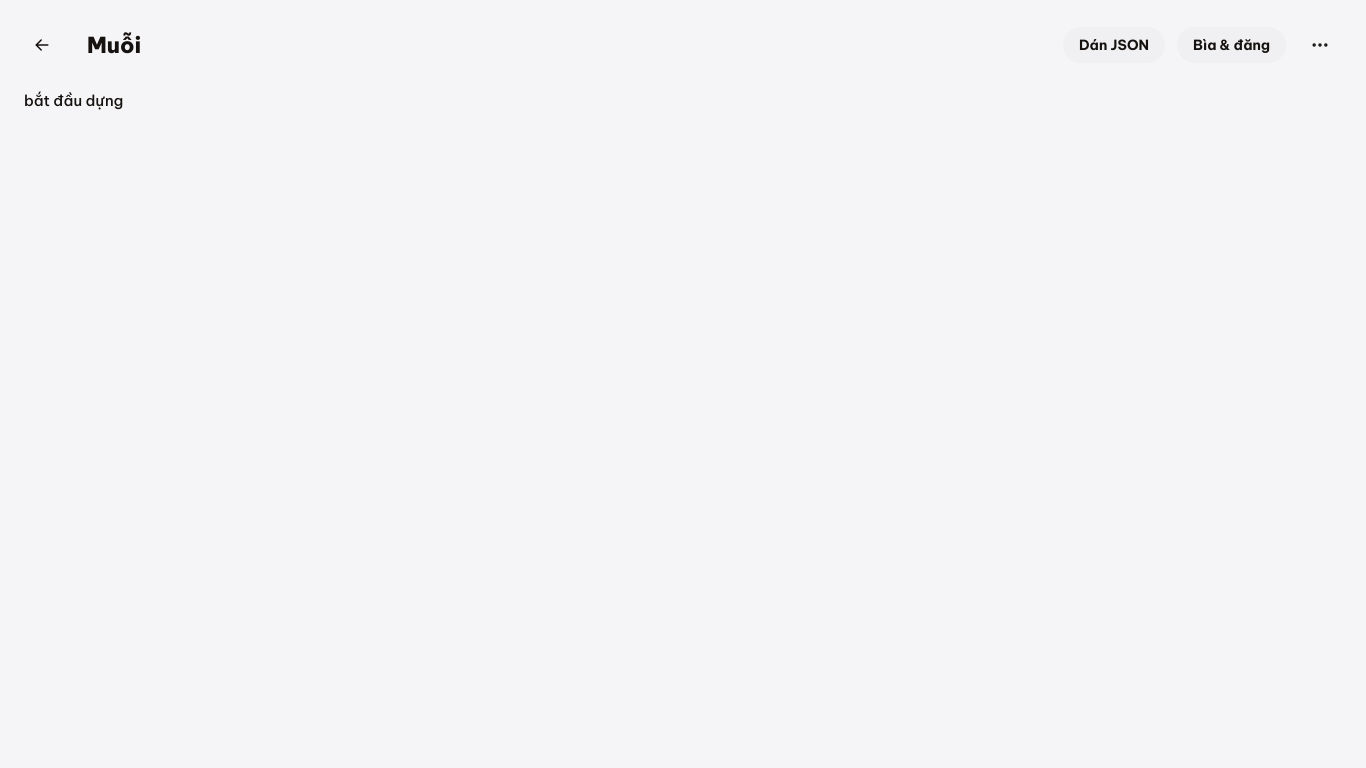
Test case: BackupsDialog (menu ⋯ → Bản sao lưu) › asks for confirmation, restores the chosen backup and swaps the project in
Click the button named "Thêm thao tác" at (1320, 45), box [1298,23,1342,67]
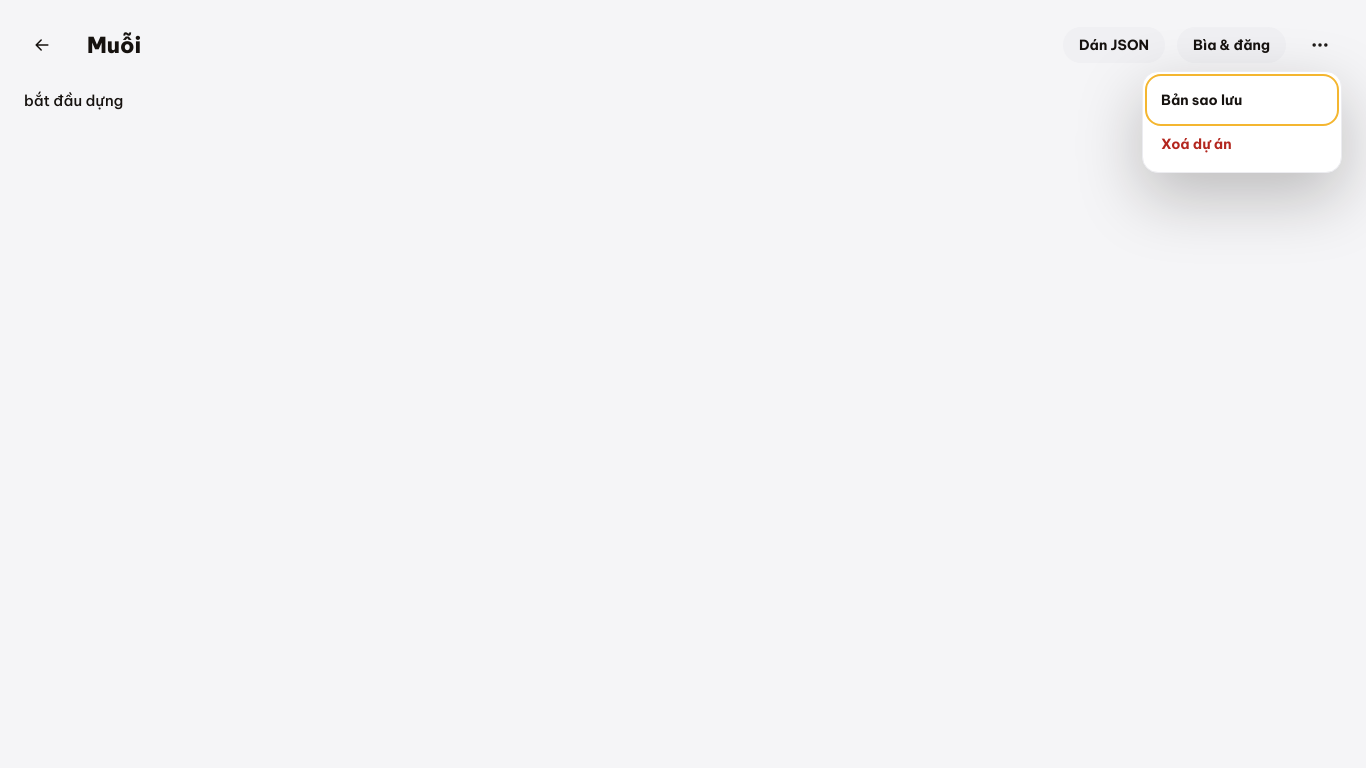
Click the menu item "Bản sao lưu" at (1242, 100), box [1149,78,1335,122]
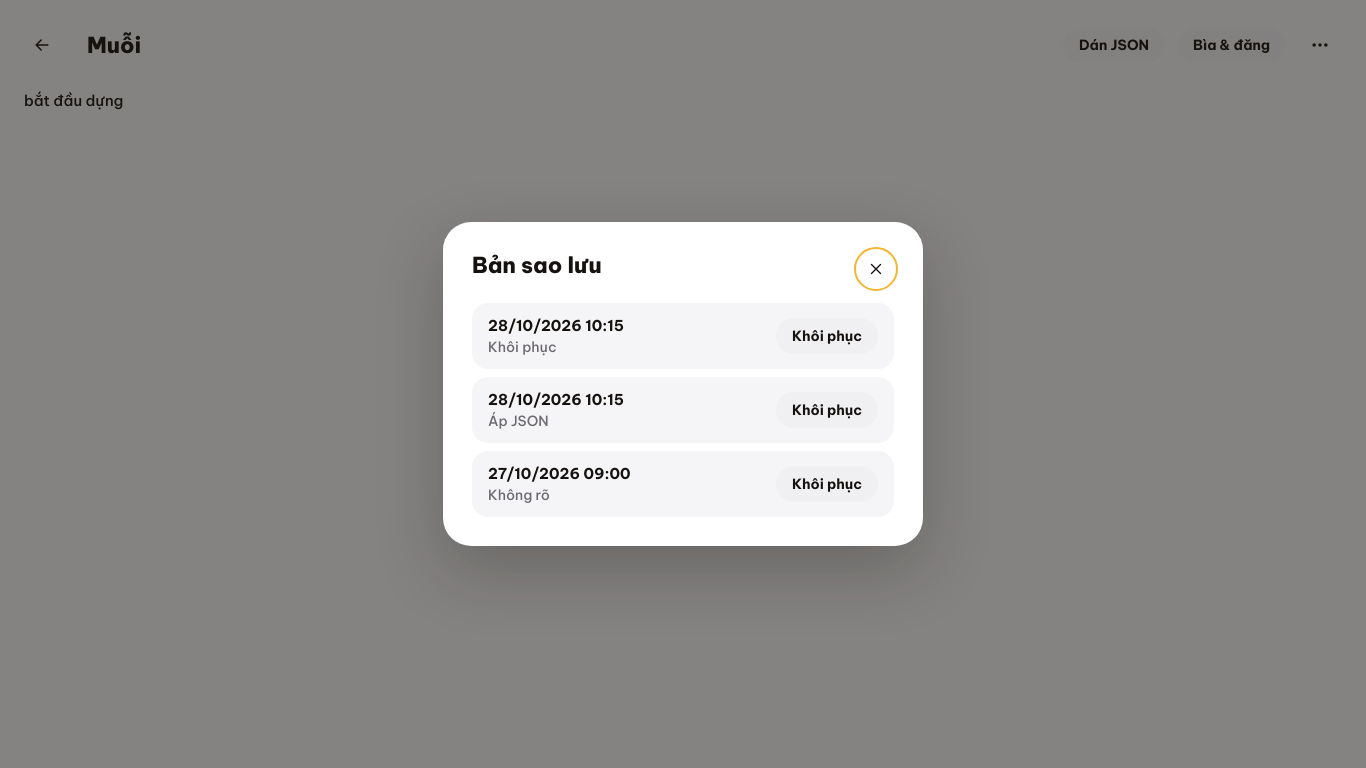
Click the button "Khôi phục" in the row of "Áp JSON" at (827, 410), box [776,392,878,428]
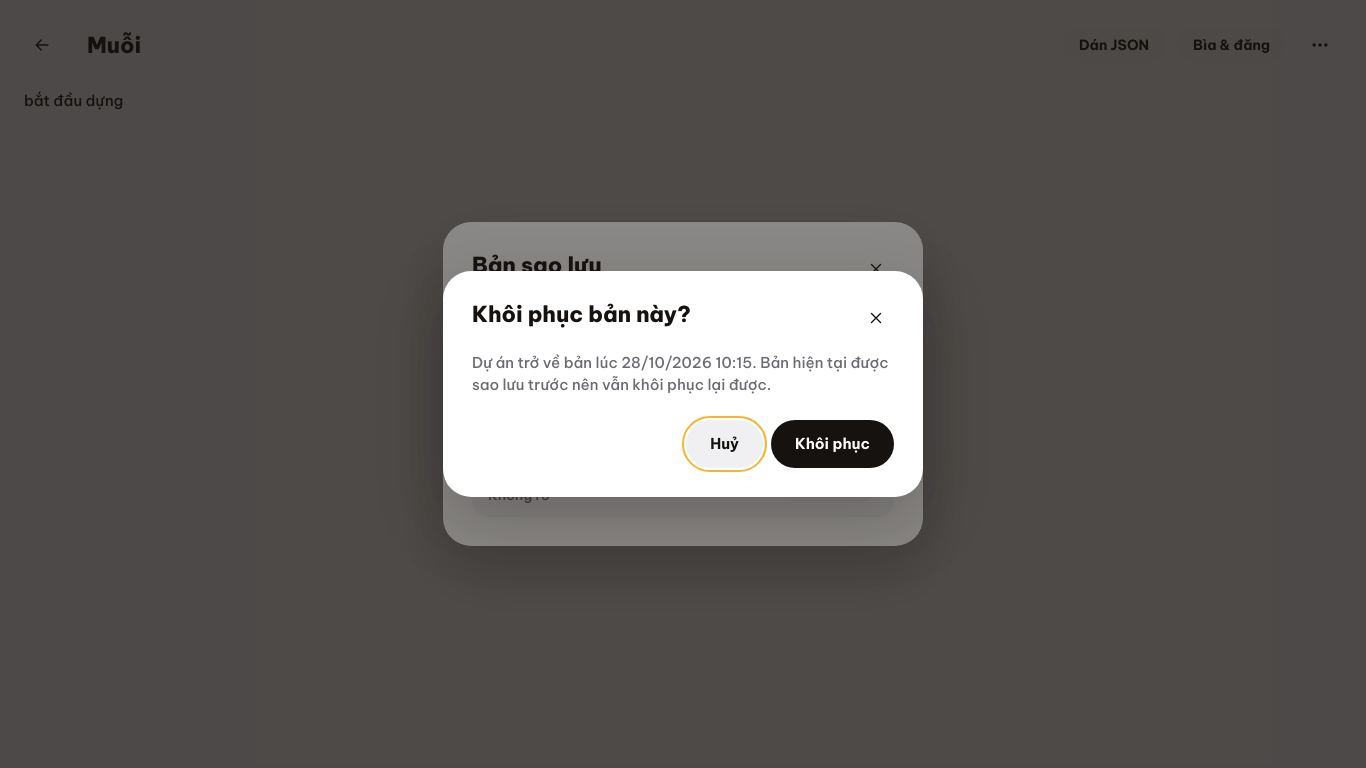
Click the button "Khôi phục" at (832, 444), box [771,420,894,468]
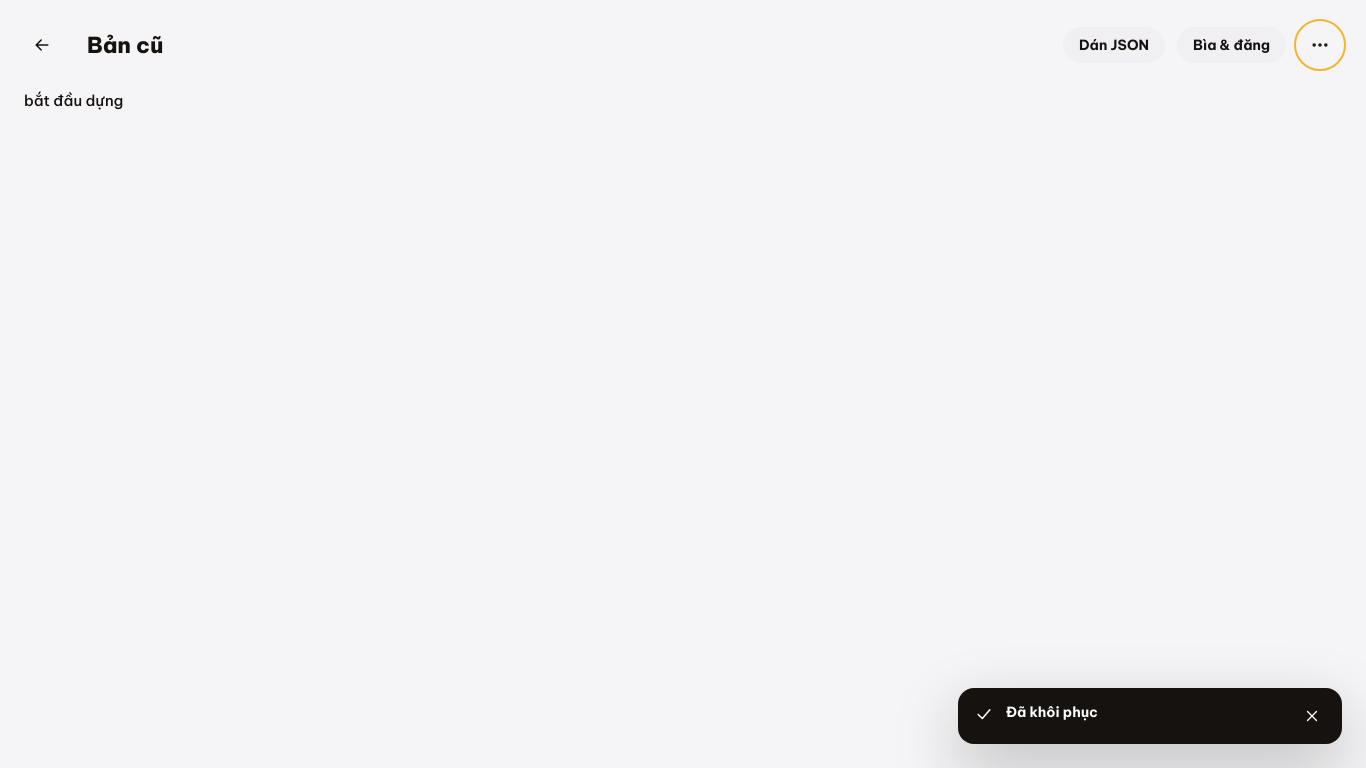
Check: the text "Đã khôi phục" is shown, box [1006,703,1098,721]
Check: the field named "Tiêu đề" holds "Bản cũ", box [72,20,1039,70]
